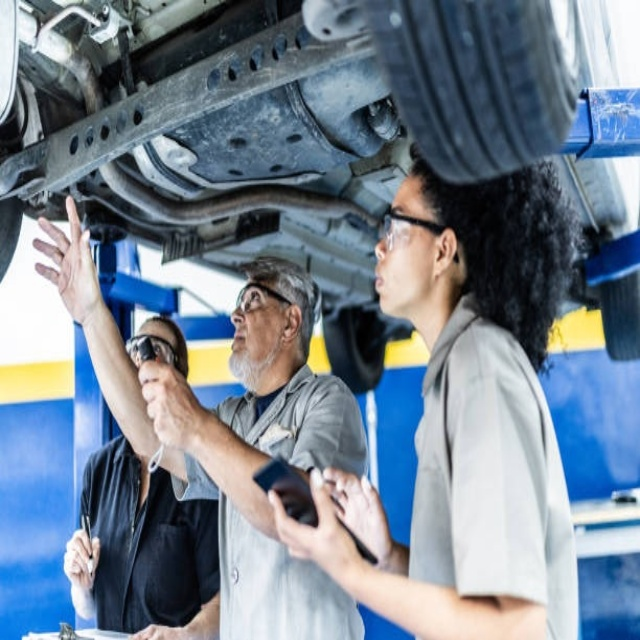Gafas: (380, 212, 450, 254), (235, 281, 294, 314), (126, 335, 179, 369)
Sin_guantes: (266, 460, 357, 577), (35, 194, 103, 326), (316, 465, 394, 570), (137, 360, 204, 449), (65, 528, 98, 582)
Sin_mascara: (371, 258, 397, 315), (229, 324, 249, 366)
